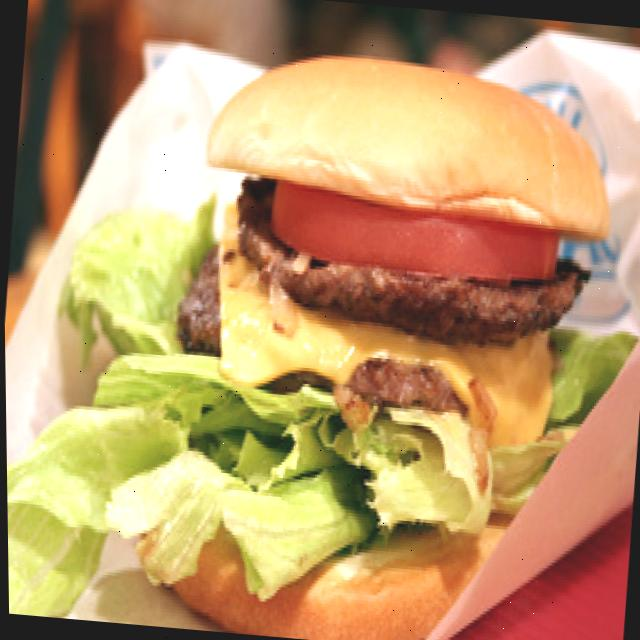汉堡快餐: (94, 31, 621, 640)
